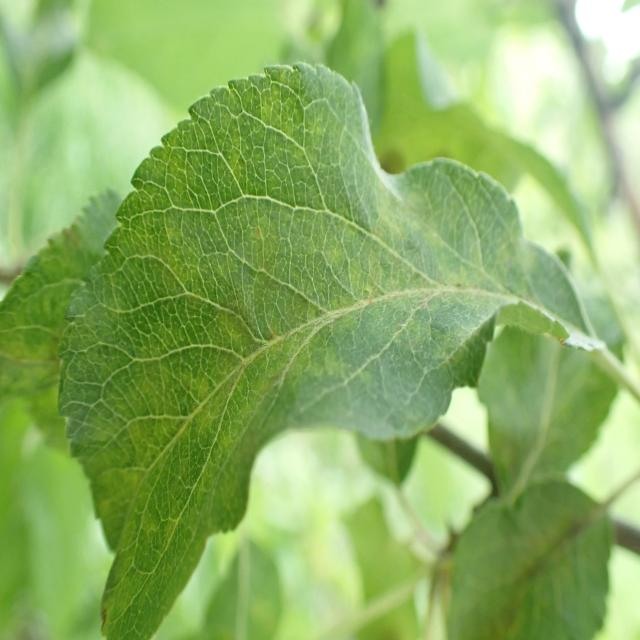scab: (84, 138, 546, 445)
